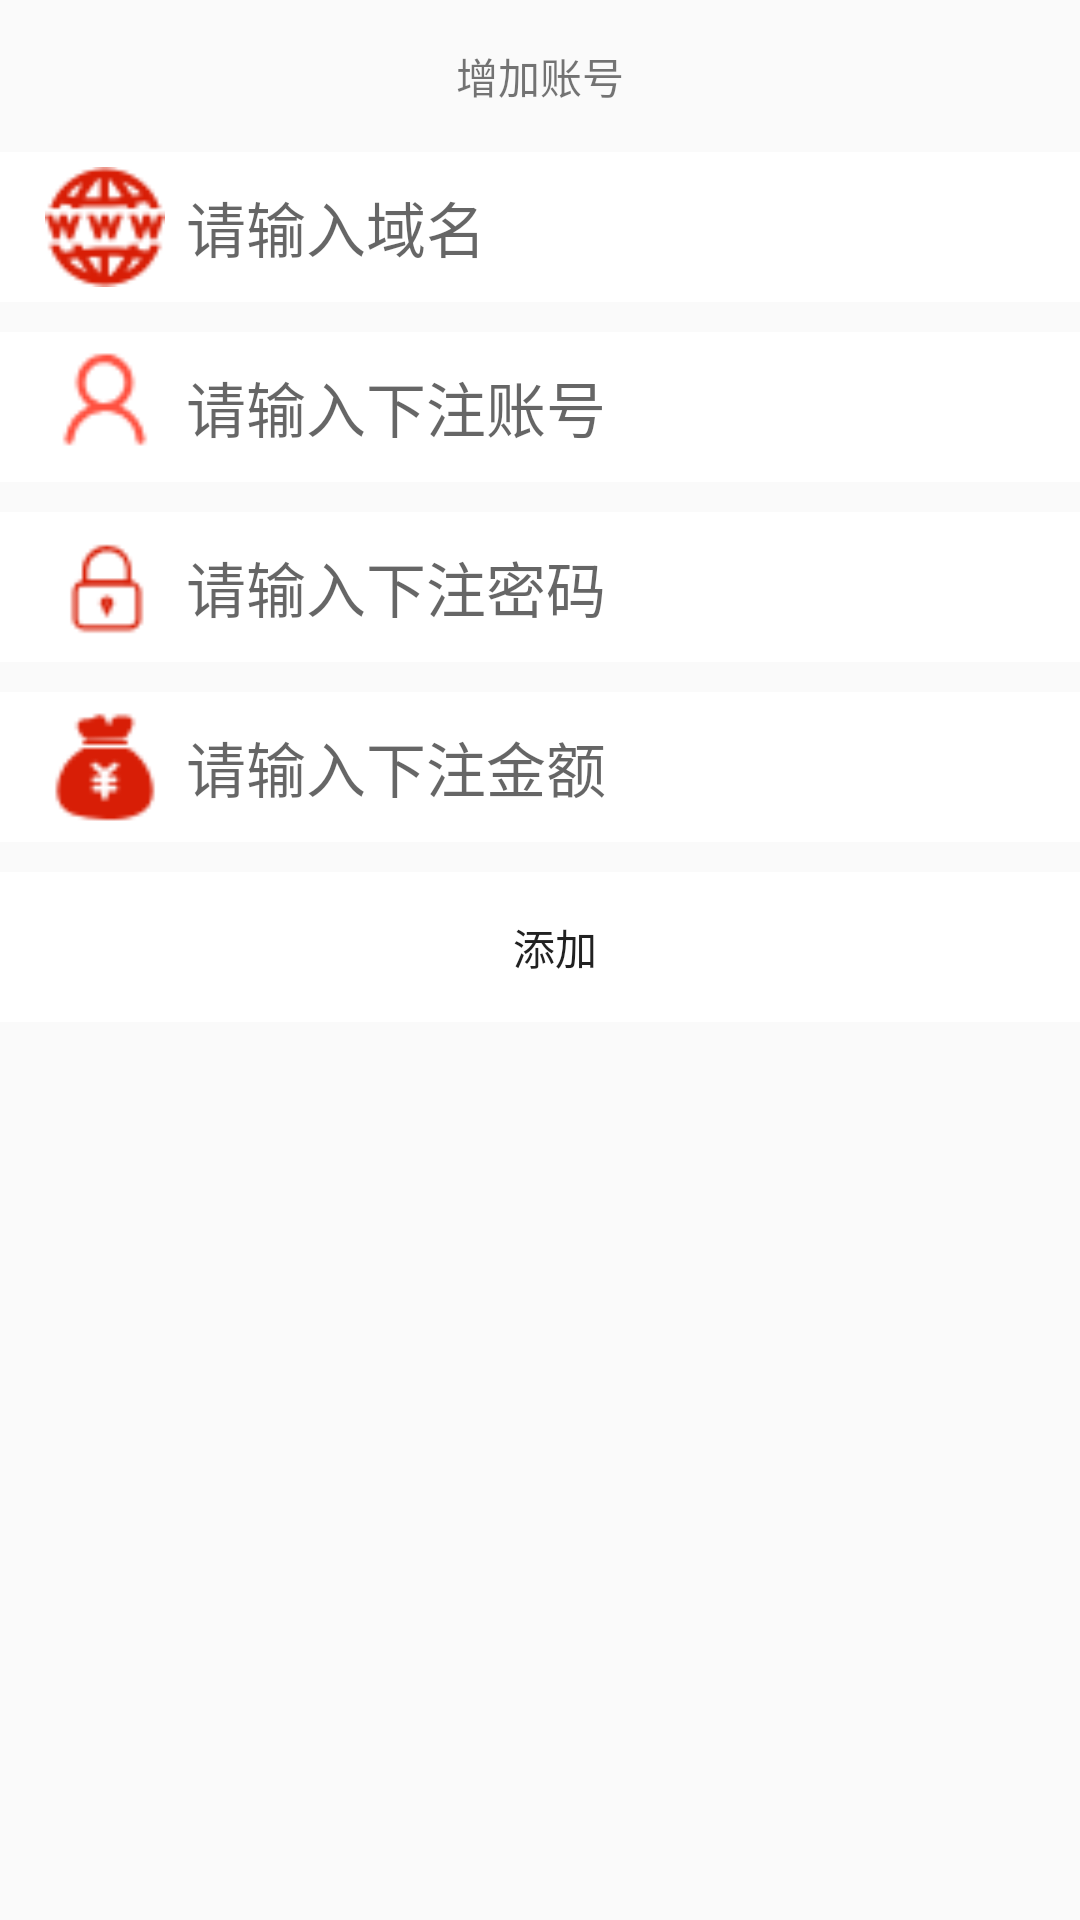

Where to tap for icons on this 1080px x 1920px app screen, as point (x, y):
account demo: point (105, 399)
bet money: point (105, 767)
domain demo: point (105, 227)
password demo: point (107, 588)
